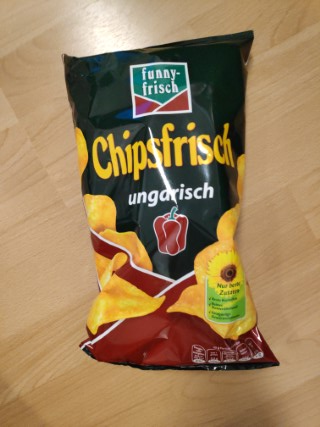chipsfrisch: (60, 29, 281, 371)
